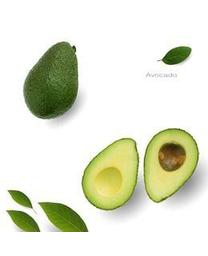avocado: (24, 41, 78, 121), (82, 136, 138, 210), (145, 128, 199, 204)
